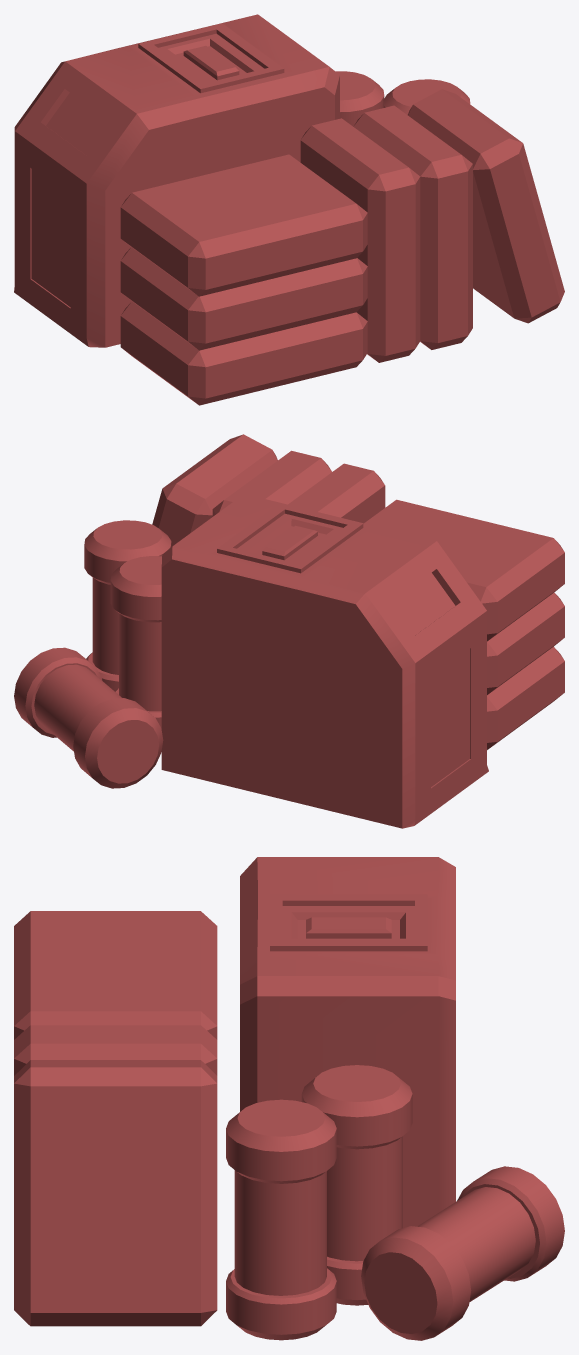
Rendered from Crates_02.fbx.
3 renders of one model, top to bottom at view 1: azimuth 30°, elevation 25°; view 2: azimuth 150°, elevation 25°; view 3: azimuth 270°, elevation 25°, orthographic. The views are drawn at different scales.
Parts seen in each view (by area): view 1: pCube23, pCube11, pCube22, pCube20, pCube18, pCube19, pCube21, pCylinder14, pCylinder4; view 2: pCube23, pCylinder15, pCube11, pCylinder14, pCube22, pCylinder4, pCube18, pCube19, pCube20, pCube21; view 3: pCube23, pCube22, pCylinder4, pCylinder15, pCube11, pCylinder14, pCube21, pCube20.
Boxes of the visible parts, left/top/right/bottom form: pCube23: left=14, top=14, right=339, bottom=347; pCube11: left=120, top=154, right=367, bottom=296; pCube22: left=408, top=89, right=564, bottom=323; pCube20: left=300, top=118, right=420, bottom=362; pCube18: left=120, top=301, right=367, bottom=405; pCube19: left=120, top=247, right=367, bottom=350; pCube21: left=353, top=105, right=472, bottom=349; pCylinder14: left=335, top=71, right=384, bottom=126; pCylinder4: left=383, top=79, right=470, bottom=114; pCube23: left=161, top=494, right=488, bottom=828; pCylinder15: left=14, top=647, right=163, bottom=788; pCube11: left=364, top=499, right=564, bottom=641; pCylinder14: left=110, top=556, right=161, bottom=728; pCube22: left=152, top=434, right=277, bottom=546; pCylinder4: left=84, top=520, right=171, bottom=691; pCube18: left=487, top=646, right=564, bottom=749; pCube19: left=487, top=592, right=564, bottom=694; pCube20: left=288, top=463, right=385, bottom=523; pCube21: left=212, top=450, right=331, bottom=516; pCube23: left=240, top=857, right=455, bottom=1227; pCube22: left=14, top=1060, right=217, bottom=1326; pCylinder4: left=226, top=1099, right=336, bottom=1340; pCylinder15: left=361, top=1166, right=564, bottom=1340; pCube11: left=14, top=911, right=217, bottom=1007; pCylinder14: left=301, top=1065, right=412, bottom=1305; pCube21: left=14, top=1025, right=217, bottom=1075; pCube20: left=14, top=992, right=217, bottom=1039.
Size of the model in its own units: 578 by 315 by 547.
